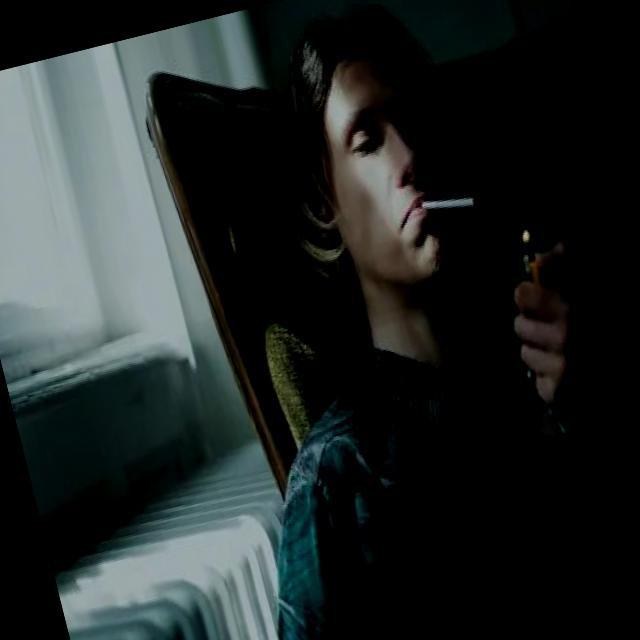cigarette: (410, 177, 482, 233)
